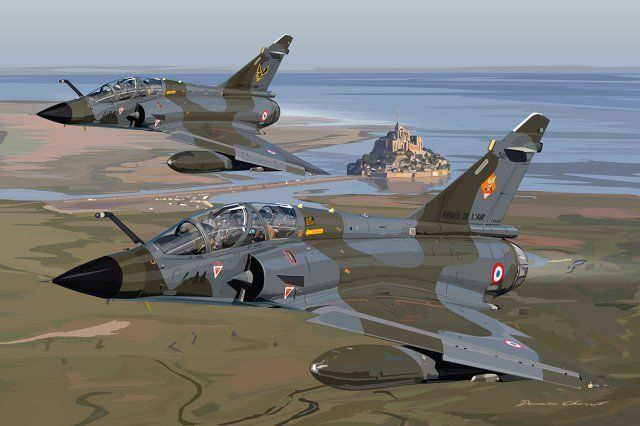Aeronef_militaire: (40, 108, 597, 403), (25, 28, 349, 187)
